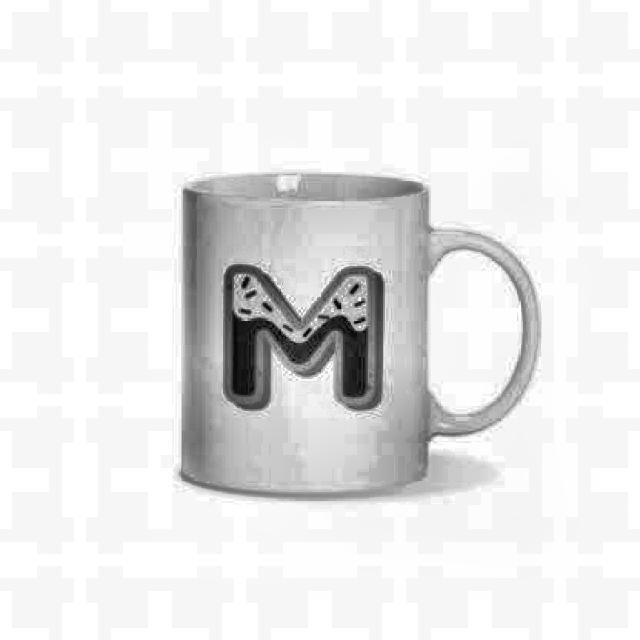Mug: (178, 171, 542, 497)
